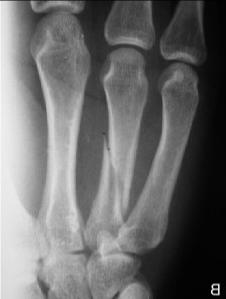fracture: (100, 128, 130, 220)
